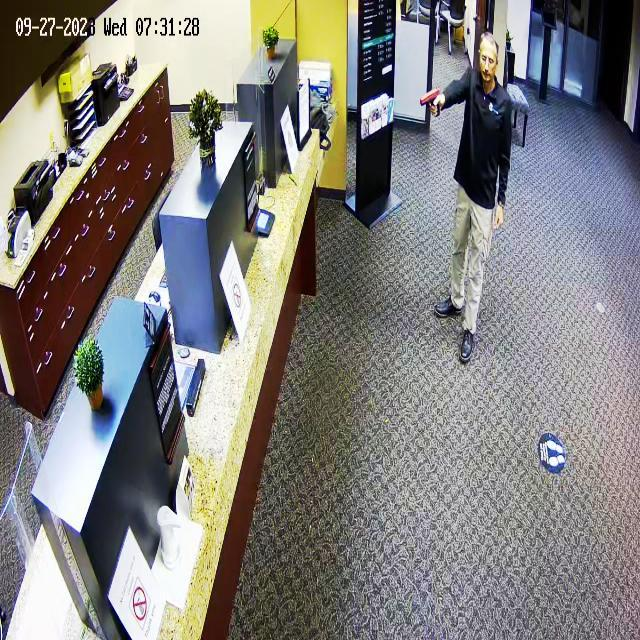Gun: (416, 82, 455, 126)
